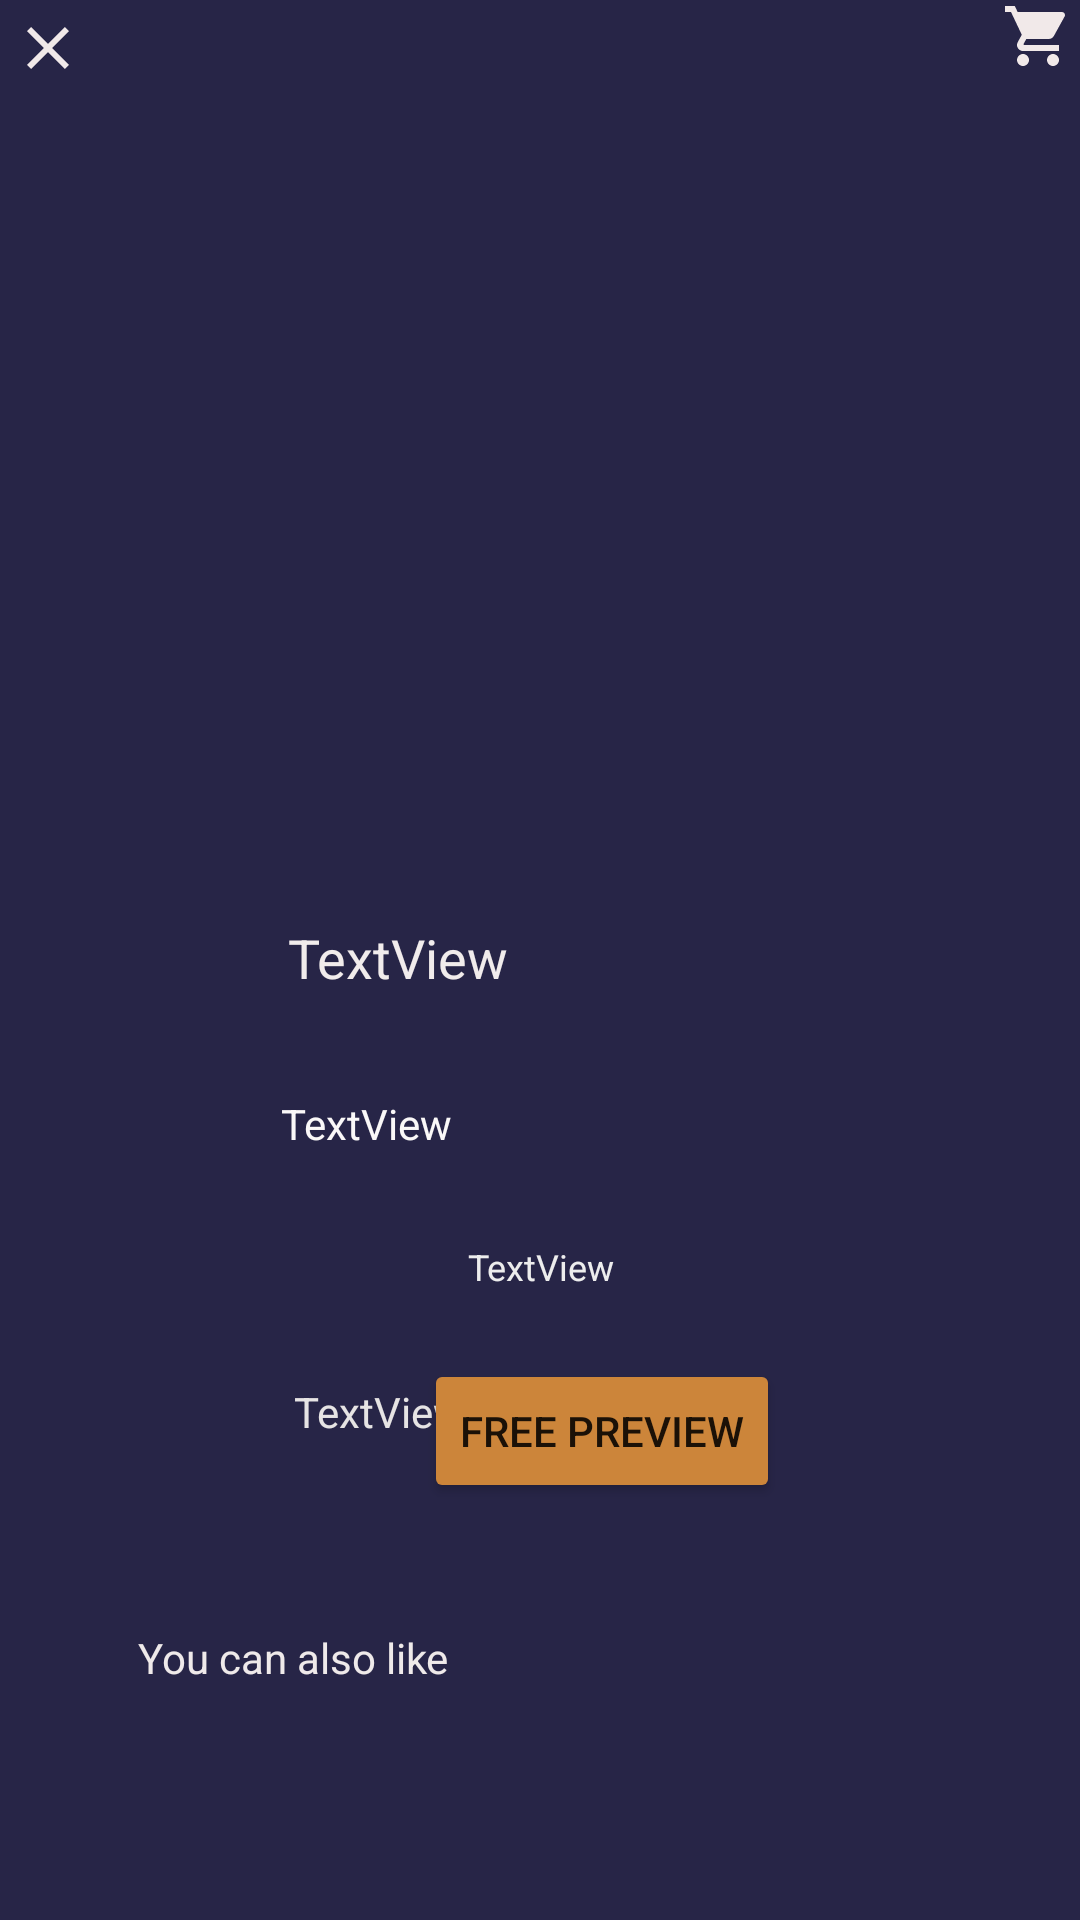

Icons on this 1080 × 1920 Android screen, each with the point to tap as [x,y]:
close: [48,48]
shopping: [1035,36]
